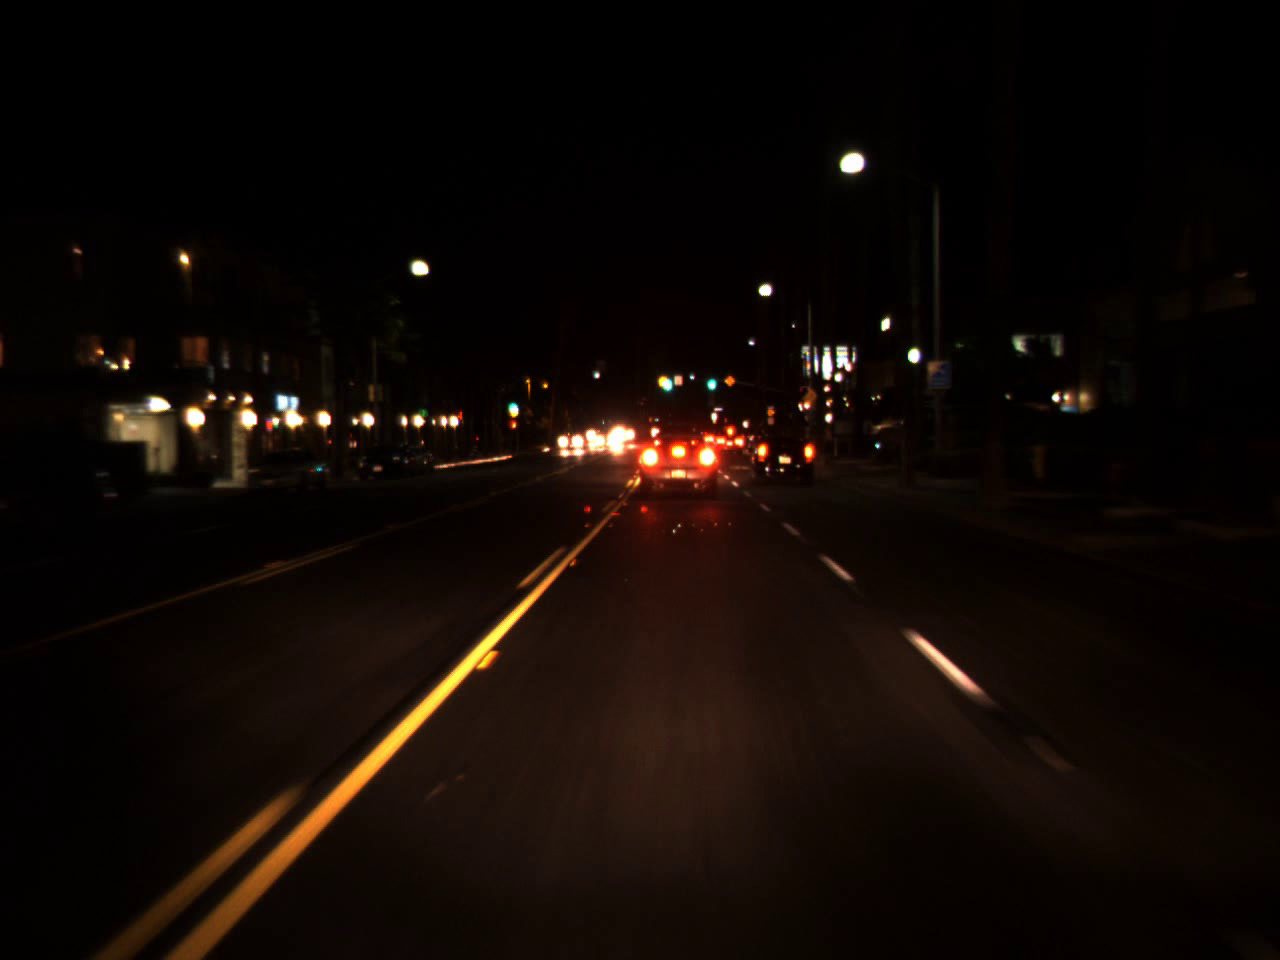go: (704, 366, 718, 393), (503, 392, 519, 413), (660, 366, 672, 393)
